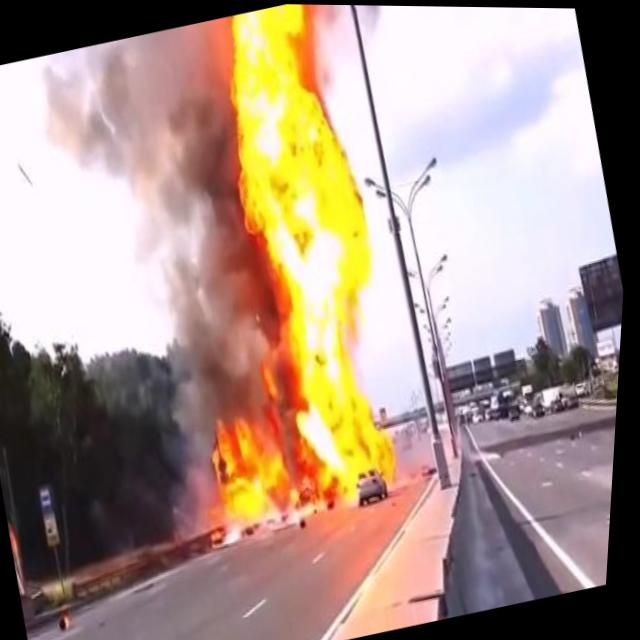fire: (179, 2, 445, 524), (185, 399, 302, 549)
